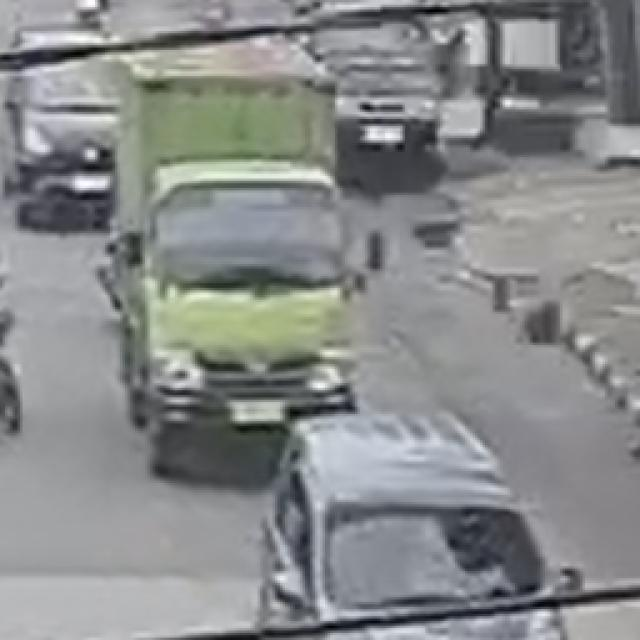truck: (107, 38, 366, 455)
